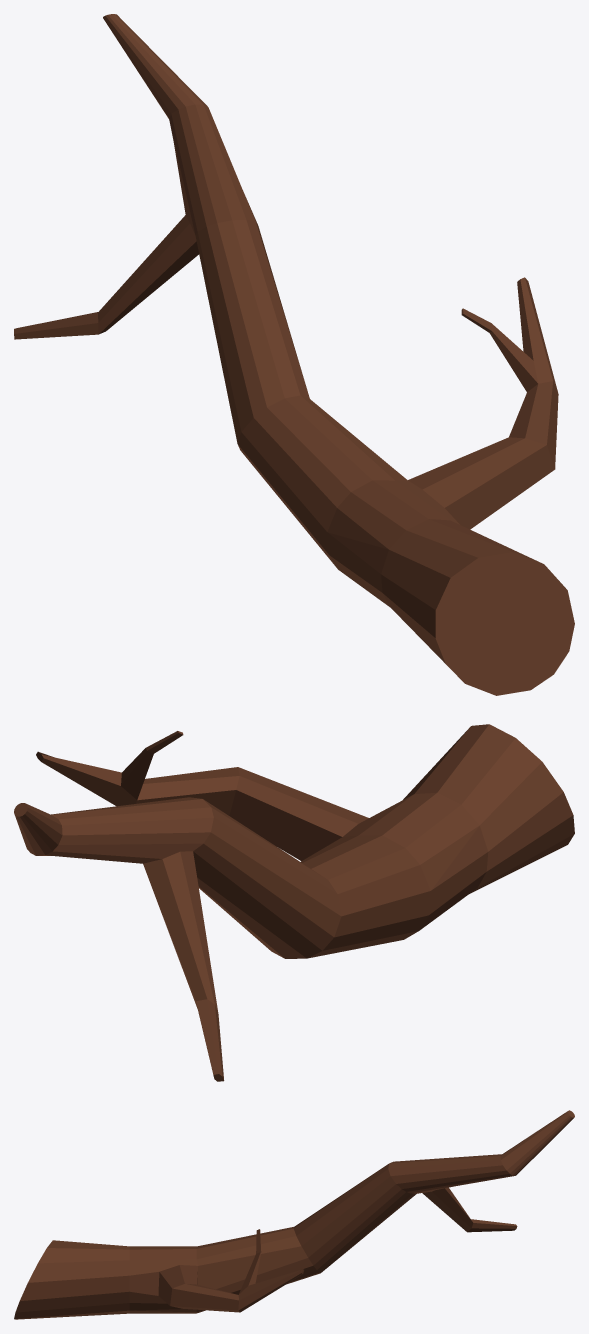
The model's file is TreeBranch.fbx.
The picture shows the model from 3 angles, top to bottom: view 1: azimuth 30°, elevation 25°; view 2: azimuth 150°, elevation 25°; view 3: azimuth 270°, elevation 25°; orthographic projection. The views are drawn at different scales.
Parts seen in each view (by area): view 1: Cylinder; view 2: Cylinder; view 3: Cylinder.
Boxes of the visible parts, bbox=[...] form: Cylinder: bbox=[14, 14, 574, 695]; Cylinder: bbox=[14, 724, 574, 1081]; Cylinder: bbox=[14, 1110, 574, 1319].
Size of the model in its own units: 7.41 by 7.15 by 16.73.
